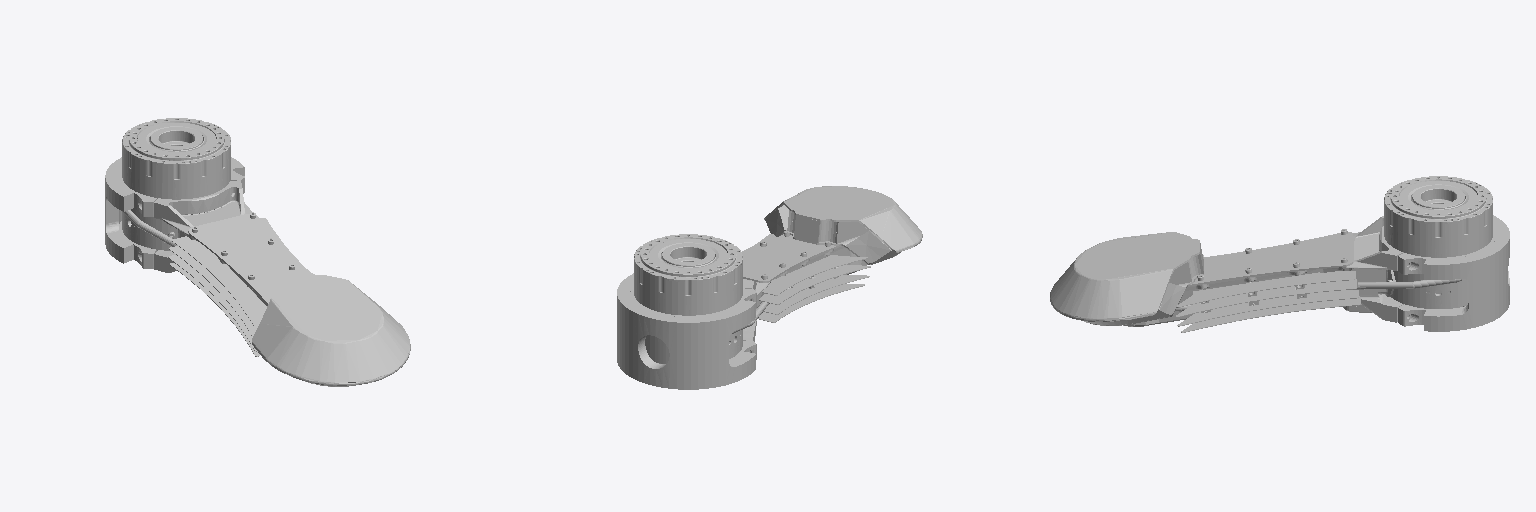
The model's file is anymal_thigh_l.obj.
3 views of the same model, side by side, from view 1: azimuth 30°, elevation 25°; view 2: azimuth 150°, elevation 25°; view 3: azimuth 270°, elevation 25° (orthographic).
Size of the model in its own units: 130 by 109 by 380.